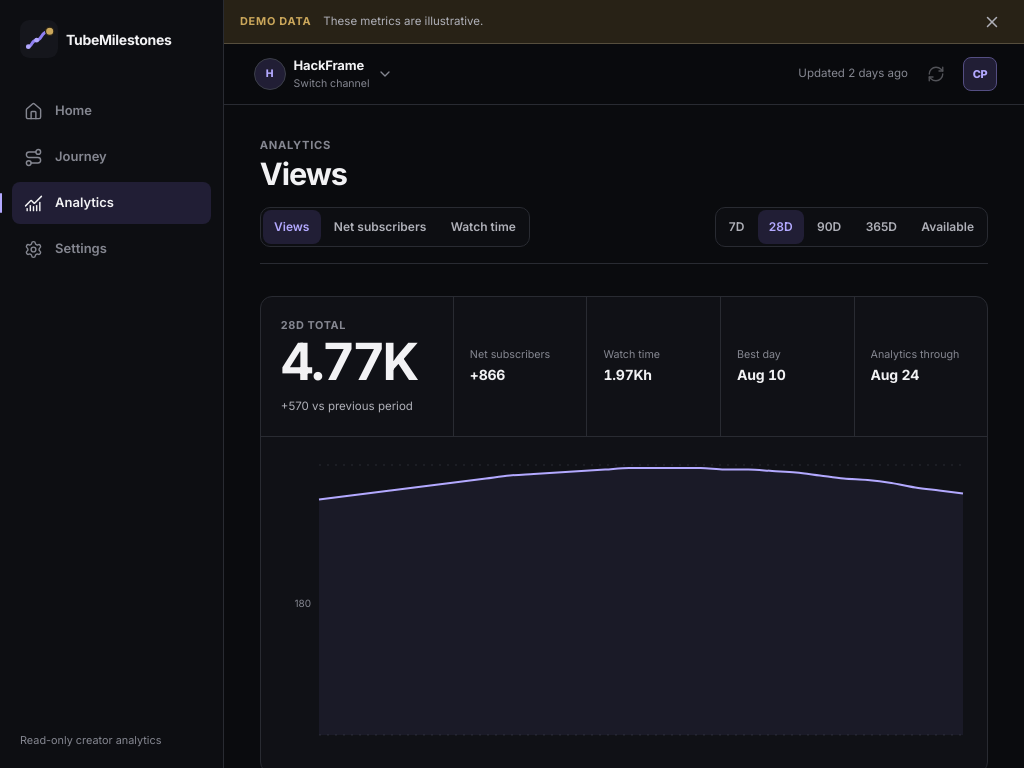
it: TubeMilestones cloud application states › renders 28-day Analytics as one focus value with secondary rows
Expected: the heading "Views" is shown, [260,155,347,192]
Expected: the text "28D total" is shown, [281,318,346,332]
Click the button "7D".
click(737, 226)  # box [718,210,756,244]
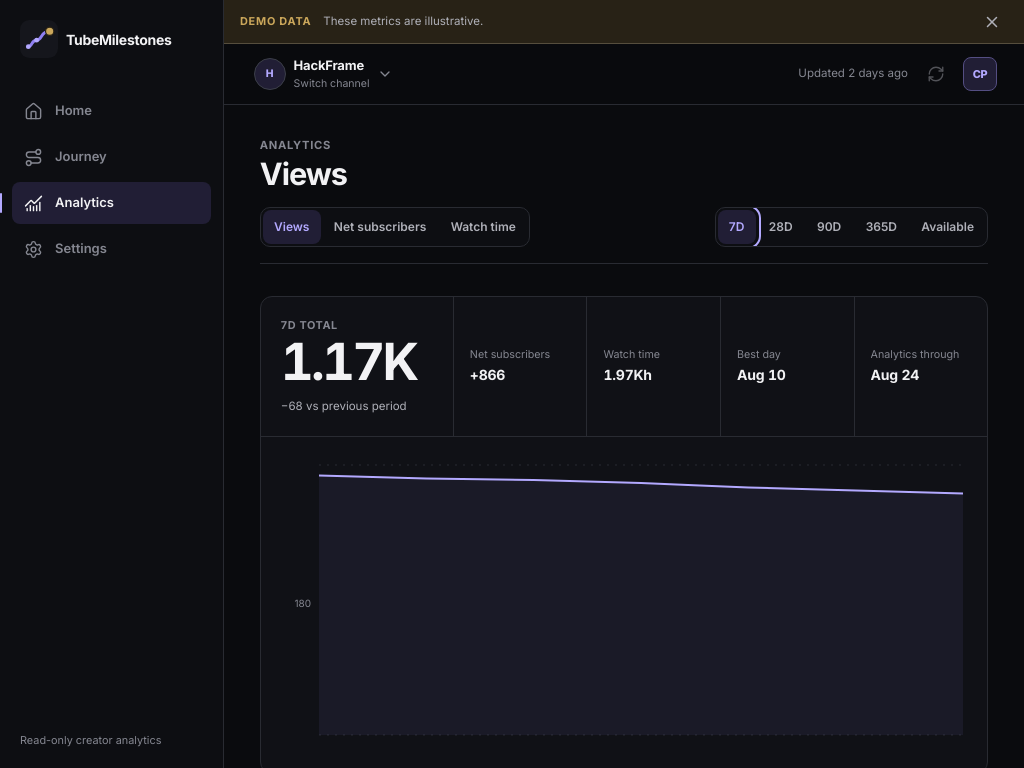
Now the text "7D total" is shown, box [281,318,338,332]
Click the button "Available".
click(948, 226)  # box [910,210,985,244]
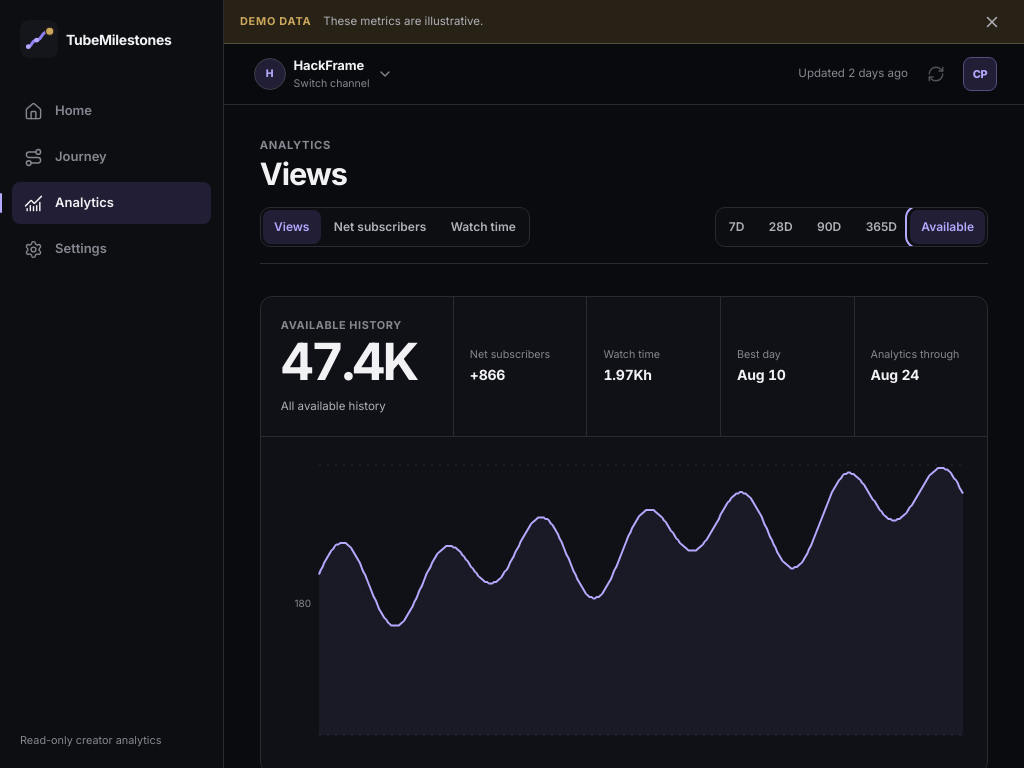
Now the text "Available history" is shown, box [281,318,402,332]
